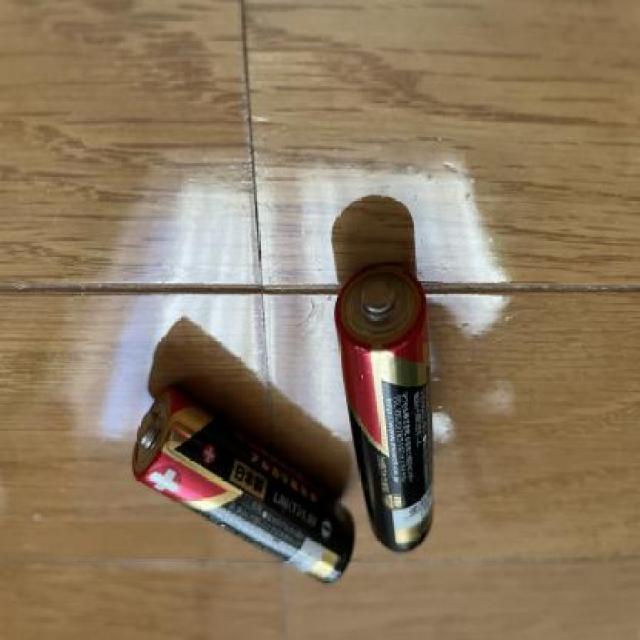hazardous waste: (129, 383, 354, 588), (330, 256, 444, 558)
